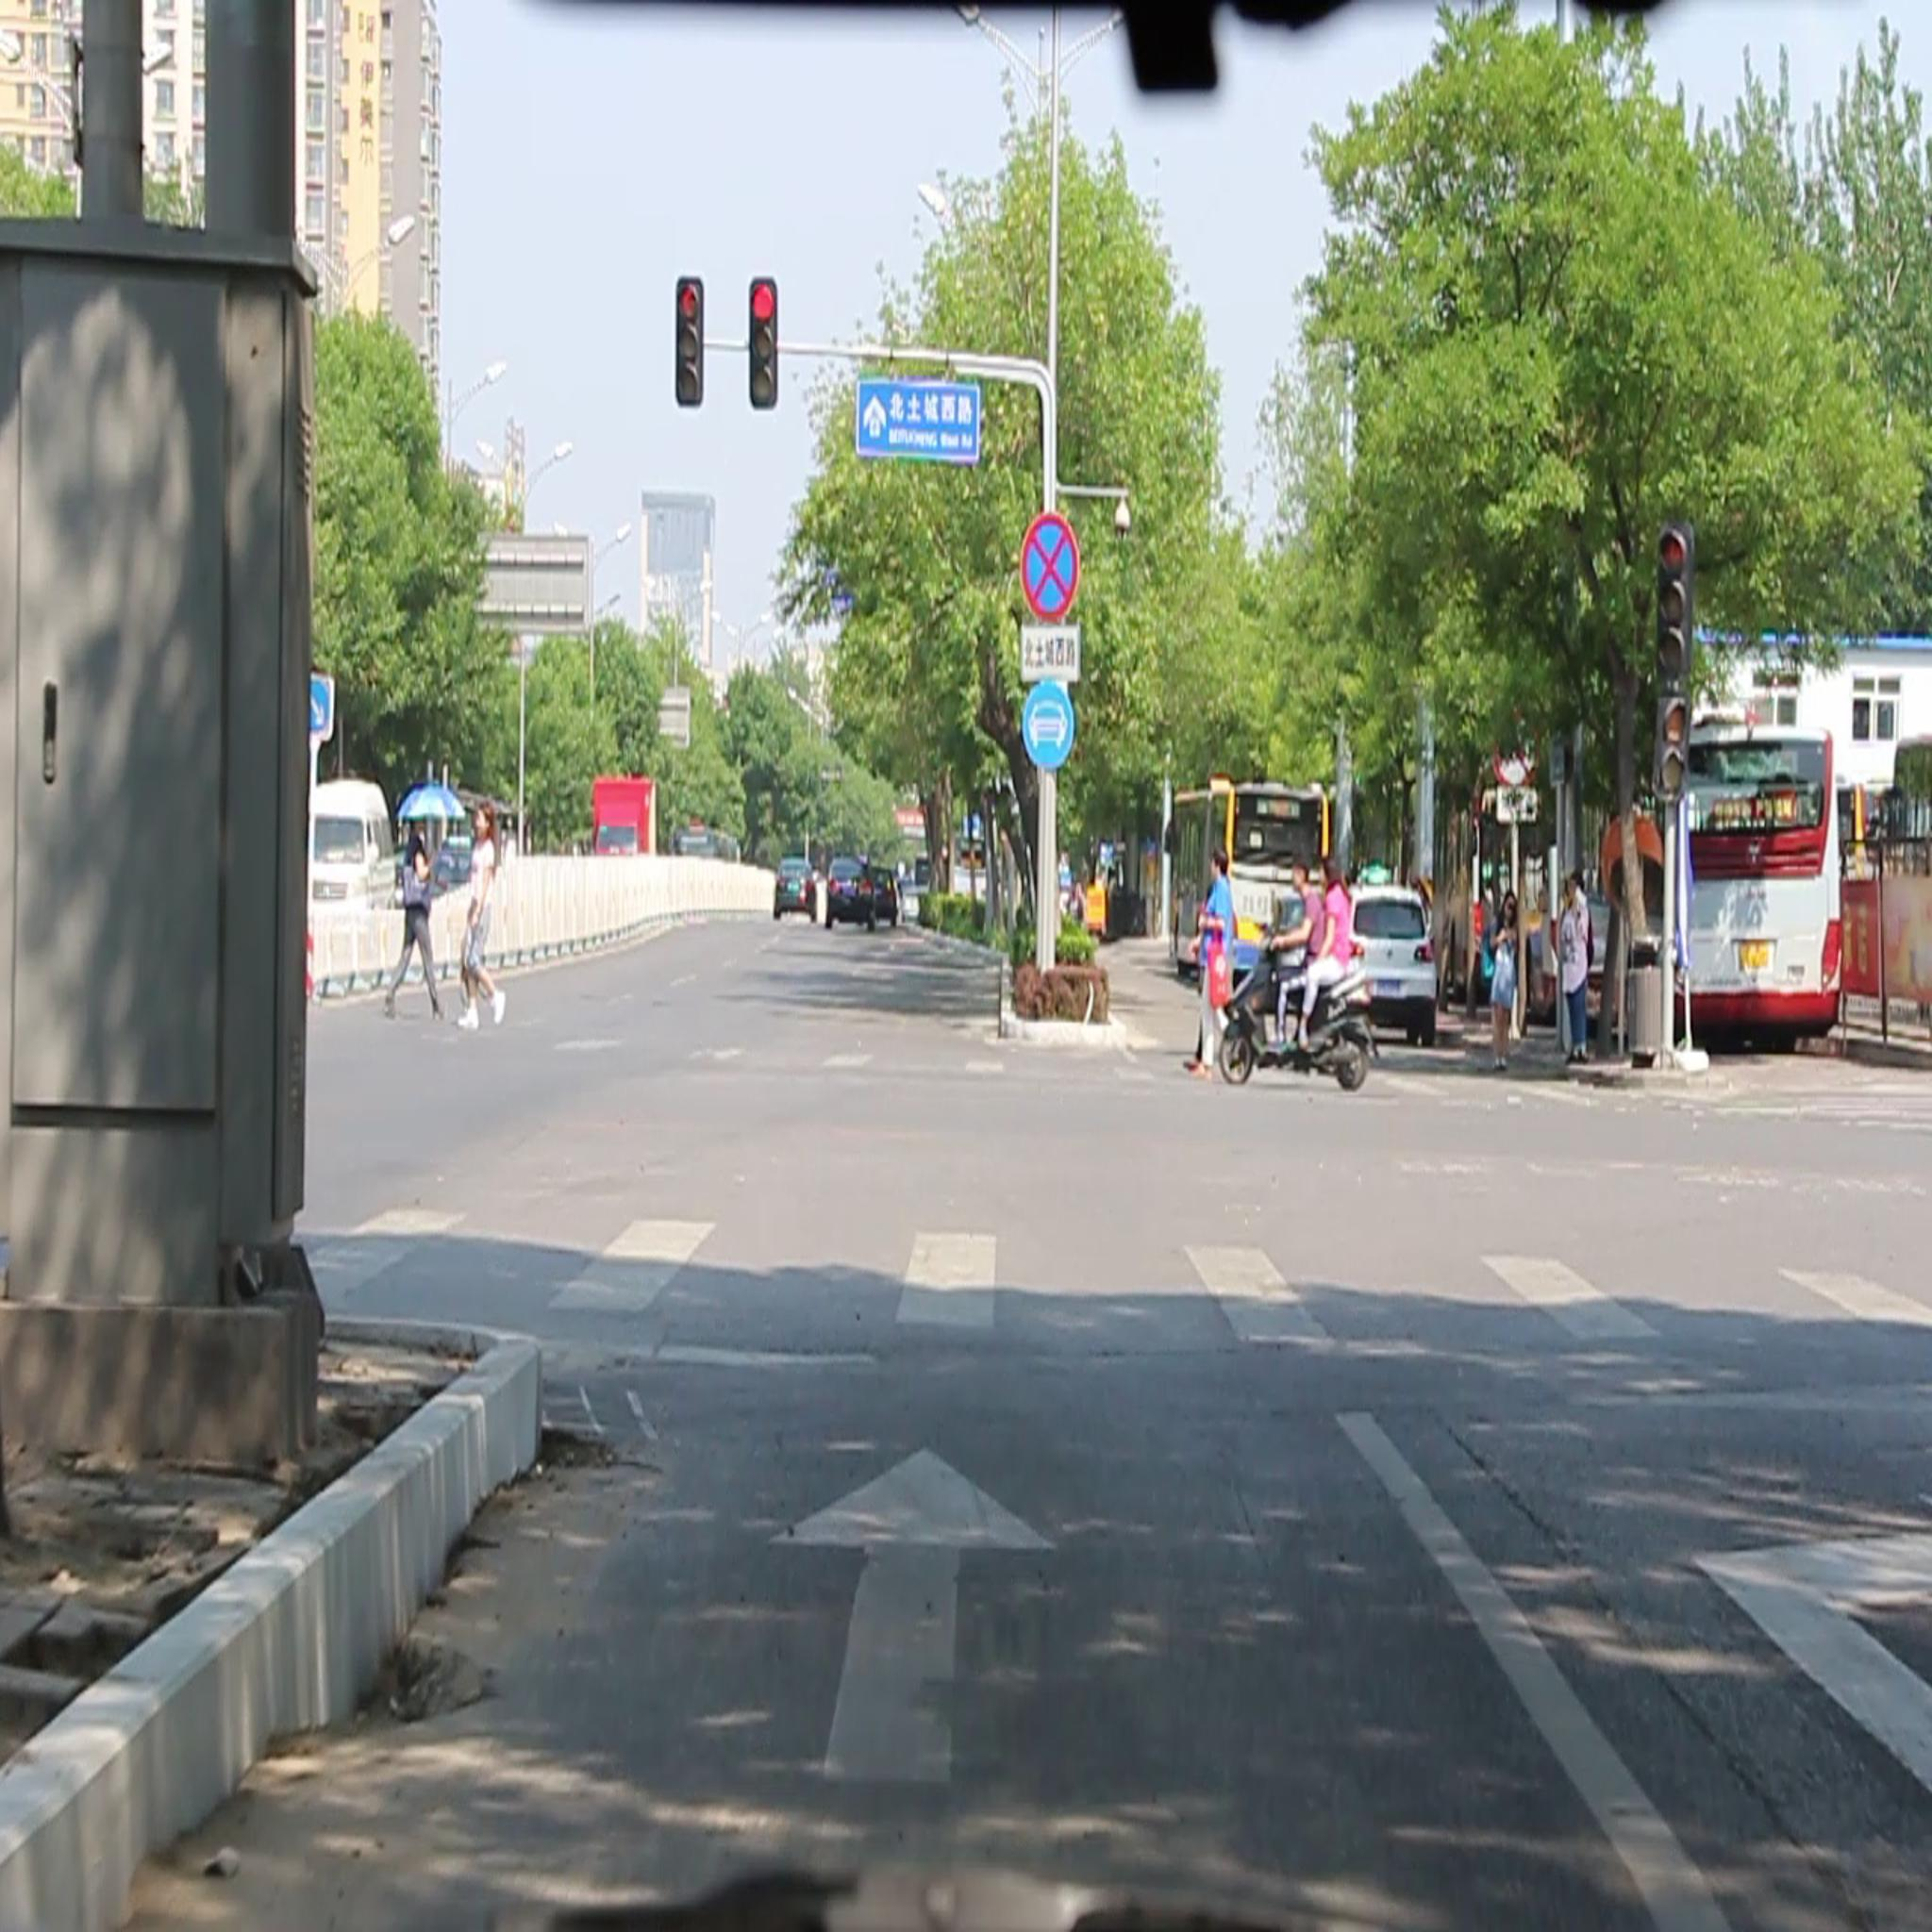i4: (1016, 685, 1072, 768)
pn: (1016, 508, 1088, 616)
